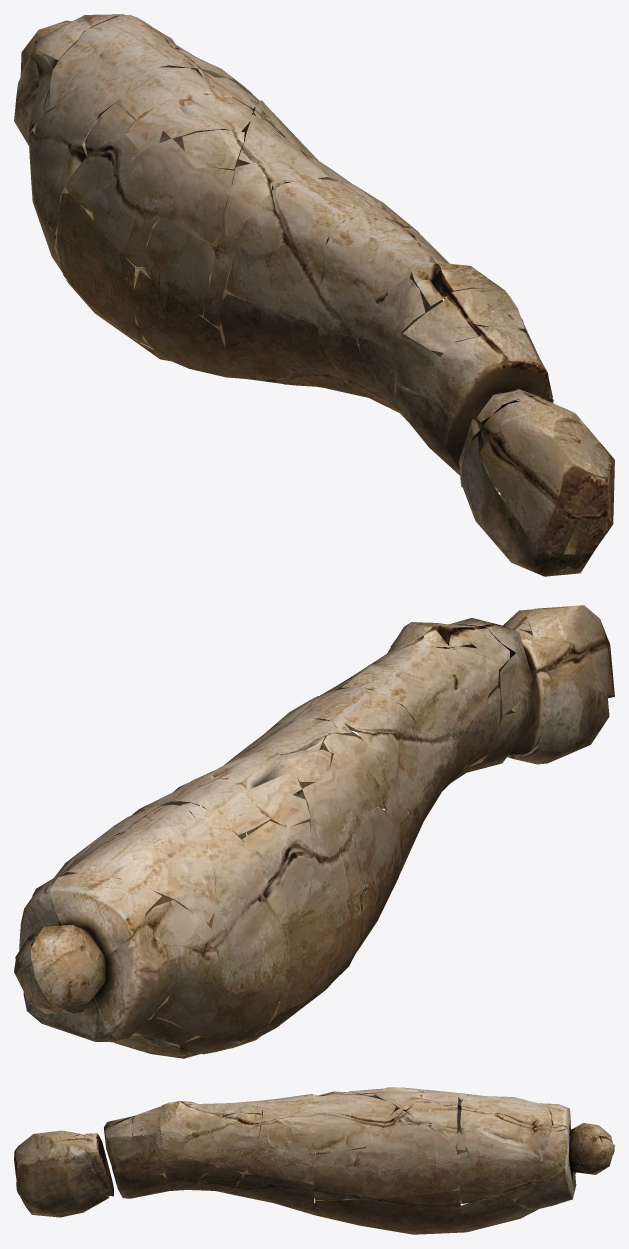
The model's file is thigh.fbx.
3 views of the same model, one above another, from view 1: azimuth 30°, elevation 25°; view 2: azimuth 150°, elevation 25°; view 3: azimuth 270°, elevation 25° (orthographic). The views are drawn at different scales.
Visible parts, largest first — view 1: Part; view 2: Part; view 3: Part.
Boxes of the visible parts, box(x1,y1,x2,y2) form: Part: box(14, 14, 614, 576); Part: box(14, 605, 614, 1058); Part: box(14, 1087, 614, 1234).
Bounding box in the file's own units: 0.0983 × 0.1114 × 0.44.
